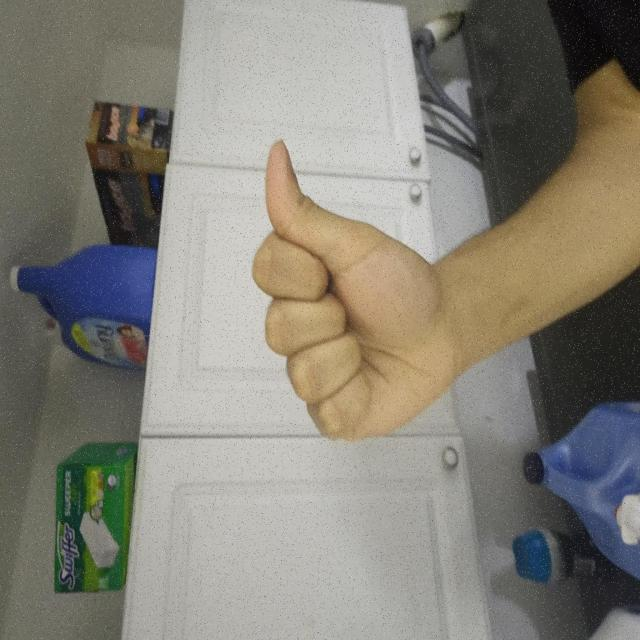A: (148, 332, 381, 606)
